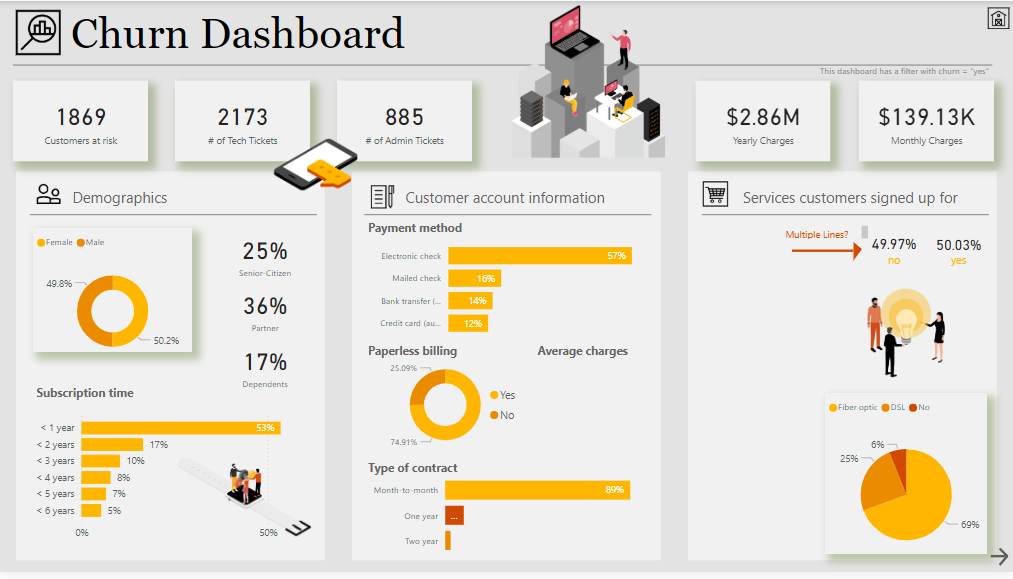

Layout of this report page (visuals, bound fields, positions):
{"tool":"powerbi","page":{"name":"Churn","canvas":[1280,720],"ordinal":1},"visuals":[{"type":"textbox","box":[87.7,4.9,1173.8,75],"z":0},{"type":"basicShape","box":[8.7,60.7,1253,40.5],"z":1000},{"type":"basicShape","box":[18.3,210,396.8,499.9],"z":2000},{"type":"card","fields":{"Values":["CountNonNull(churn.customerID)"]},"box":[18.5,99.4,170,102.3],"z":3000},{"type":"basicShape","box":[441.6,210,396.8,499.9],"z":4000},{"type":"basicShape","box":[864.9,210,396.8,499.9],"z":5000},{"type":"textbox","box":[508.5,228.6,314.9,35.6],"z":6000},{"type":"basicShape","box":[450.7,248.9,381.4,39.5],"z":7000},{"type":"image","box":[461.3,226.3,47.2,39.5],"z":8000},{"type":"textbox","box":[932.7,228.6,314.9,35.6],"z":9000},{"type":"basicShape","box":[877.4,248.9,381.4,39.5],"z":10000},{"type":"textbox","box":[88,228.6,314.9,35.6],"z":11000},{"type":"basicShape","box":[30.2,248.9,381.4,39.5],"z":12000},{"type":"image","box":[883.2,220.6,42.4,43.3],"z":13000},{"type":"image","box":[43.3,220.6,40.5,44.3],"z":14000},{"type":"donutChart","fields":{"Category":["churn.gender"],"Y":["CountNonNull(churn.gender)"]},"box":[43.8,286,201.3,156.6],"z":15000},{"type":"card","fields":{"Values":["churn.SeniorCitizen in %"]},"box":[271.4,268.7,128.1,100.2],"z":16000},{"type":"card","fields":{"Values":["churn.Partner in %"]},"box":[271.4,338.1,128.4,100.2],"z":17000},{"type":"card","fields":{"Values":["churn.Dependents in %"]},"box":[271.4,407.5,128.4,100.2],"z":18000},{"type":"clusteredBarChart","fields":{"Category":["churn.Contract"],"Y":["CountNonNull(churn.Contract)"]},"box":[461.3,577.9,370.8,131.9],"z":19000},{"type":"clusteredBarChart","fields":{"Y":["CountNonNull(churn.PaymentMethod)"],"Category":["churn.PaymentMethod"]},"box":[461.3,286,370.8,148.3],"z":20000},{"type":"textbox","box":[461.3,269.7,314.9,35.6],"z":21000},{"type":"textbox","box":[461.3,424.7,204.2,35.6],"z":22000},{"type":"donutChart","fields":{"Category":["churn.PaperlessBilling"],"Y":["CountNonNull(churn.PaperlessBilling)"]},"box":[461.3,438.2,204.2,139.7],"z":23000},{"type":"multiRowCard","fields":{"Values":["Avg(churn.MonthlyCharges)","Avg(churn.TotalCharges)"]},"box":[674.2,460.4,149.3,95.3],"z":24000},{"type":"textbox","box":[461.3,572.1,314.9,35.6],"z":25000},{"type":"pieChart","fields":{"Category":["churn.InternetService"],"Y":["Divide(CountNonNull(churn.InternetService), ScopedEval(CountNonNull(churn.InternetService), []))"]},"box":[1040.4,492.9,205.5,203.6],"z":26000},{"type":"card","fields":{"Values":["churn.Multiple Lines in %"]},"box":[1172.8,276.4,72.2,62.6],"z":27000},{"type":"card","fields":{"Values":["churn.Multiple lines no in %"]},"box":[1093.1,276.4,72.2,61.6],"z":28000},{"type":"textbox","box":[971.7,278.2,129.4,27.2],"z":29000},{"type":"textbox","box":[1092.2,311,73.2,35.6],"z":30000},{"type":"textbox","box":[1172.8,311,73.2,35.6],"z":31000},{"type":"textbox","box":[674.2,424.7,148.3,35.6],"z":32000},{"type":"multiRowCard","fields":{"Values":["churn.Phone Service in %","churn.Streaming TV in %","churn.Streaming Movies in %","churn.Device protection in %","churn.Online Bacup in %","churn.Tech Support in %","churn.Online Sec. in %"]},"box":[882.2,286,165.3,414.3],"z":33000},{"type":"basicShape","box":[990.2,300.5,97.3,28.2],"z":34000},{"type":"basicShape","box":[1063.1,296.7,37.9,32.1],"z":35000},{"type":"clusteredBarChart","fields":{"Y":["CountNonNull(churn.Churn)"],"Category":["churn.Loyalty"]},"box":[37,507.7,365.7,179],"z":36000},{"type":"textbox","box":[43.8,478.5,314.2,35],"z":37000},{"type":"image","box":[1048.2,356.5,190.9,121.8],"z":38000},{"type":"actionButton","box":[1246.1,680.1,31.6,39.5],"z":39000},{"type":"image","box":[16.6,4.9,67.2,68.2],"z":40000},{"type":"card","fields":{"Values":["Sum(churn.MonthlyCharges)"]},"box":[1083.9,99.4,170,102.3],"z":41000},{"type":"image","box":[634.9,0,216.9,202.2],"z":42000},{"type":"image","box":[221.1,556.2,178.3,139.3],"z":43000},{"type":"card","fields":{"Values":["Sum(churn.numTechTickets)"]},"box":[222.8,99.4,170,102.3],"z":44000},{"type":"card","fields":{"Values":["Sum(churn.numAdminTickets)"]},"box":[427.1,99.4,170,102.3],"z":45000},{"type":"card","fields":{"Values":["Sum(churn.TotalCharges)"]},"box":[879.7,99.4,170,102.3],"z":46000},{"type":"textbox","box":[897,72.3,355.9,30.5],"z":47000},{"type":"image","box":[341.9,151,115.9,108.1],"z":48000},{"type":"image","box":[1242,0,38,42.9],"z":49000}]}

Visuals, with their boxes in screenshot pixels (x1, y1, x2, y2), scaled from the page's 1280x720 canvas onto the 1013x579 screenshot:
textbox: [69, 4, 998, 64]
basicShape: [7, 49, 999, 81]
basicShape: [14, 169, 329, 571]
card - CountNonNull(churn.customerID): [15, 80, 149, 162]
basicShape: [349, 169, 664, 571]
basicShape: [684, 169, 999, 571]
textbox: [402, 184, 652, 212]
basicShape: [357, 200, 659, 232]
image: [365, 182, 402, 214]
textbox: [738, 184, 987, 212]
basicShape: [694, 200, 996, 232]
textbox: [70, 184, 319, 212]
basicShape: [24, 200, 326, 232]
image: [699, 177, 733, 212]
image: [34, 177, 66, 213]
donutChart - churn.gender x CountNonNull(churn.gender): [35, 230, 194, 356]
card - churn.SeniorCitizen in %: [215, 216, 316, 297]
card - churn.Partner in %: [215, 272, 316, 352]
card - churn.Dependents in %: [215, 328, 316, 408]
clusteredBarChart - churn.Contract x CountNonNull(churn.Contract): [365, 465, 659, 571]
clusteredBarChart - CountNonNull(churn.PaymentMethod) x churn.PaymentMethod: [365, 230, 659, 349]
textbox: [365, 217, 614, 246]
textbox: [365, 342, 527, 370]
donutChart - churn.PaperlessBilling x CountNonNull(churn.PaperlessBilling): [365, 352, 527, 465]
multiRowCard - Avg(churn.MonthlyCharges) x Avg(churn.TotalCharges): [534, 370, 652, 447]
textbox: [365, 460, 614, 489]
pieChart - churn.InternetService x Divide(CountNonNull(churn.InternetService), ScopedEval(CountNonNull(churn.InternetService), [])): [823, 396, 986, 560]
card - churn.Multiple Lines in %: [928, 222, 985, 273]
card - churn.Multiple lines no in %: [865, 222, 922, 272]
textbox: [769, 224, 871, 246]
textbox: [864, 250, 922, 279]
textbox: [928, 250, 986, 279]
textbox: [534, 342, 651, 370]
multiRowCard - churn.Phone Service in % x churn.Streaming TV in %: [698, 230, 829, 563]
basicShape: [784, 242, 861, 264]
basicShape: [841, 239, 871, 264]
clusteredBarChart - CountNonNull(churn.Churn) x churn.Loyalty: [29, 408, 319, 552]
textbox: [35, 385, 283, 413]
image: [830, 287, 981, 385]
actionButton: [986, 547, 1011, 578]
image: [13, 4, 66, 59]
card - Sum(churn.MonthlyCharges): [858, 80, 992, 162]
image: [502, 0, 674, 163]
image: [175, 447, 316, 559]
card - Sum(churn.numTechTickets): [176, 80, 311, 162]
card - Sum(churn.numAdminTickets): [338, 80, 473, 162]
card - Sum(churn.TotalCharges): [696, 80, 831, 162]
textbox: [710, 58, 992, 83]
image: [271, 121, 362, 208]
image: [983, 0, 1012, 34]
